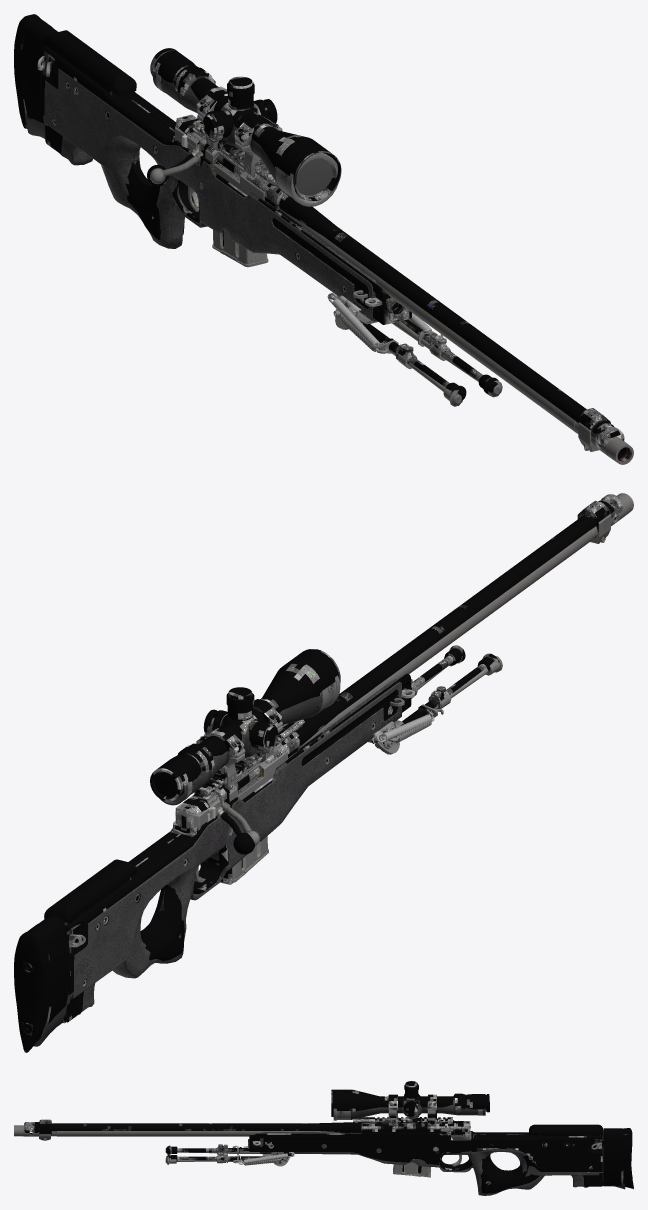
The picture shows the model from 3 angles, top to bottom: view 1: azimuth 30°, elevation 25°; view 2: azimuth 150°, elevation 25°; view 3: azimuth 270°, elevation 25°; orthographic projection. The views are drawn at different scales.
Parts seen in each view (by area): view 1: weapons\models\awp\weapon_snip_awp.vmdl_c.body_hd, weapons\models\awp\weapon_snip_awp.vmdl_c.body_legacy; view 2: weapons\models\awp\weapon_snip_awp.vmdl_c.body_hd, weapons\models\awp\weapon_snip_awp.vmdl_c.body_legacy; view 3: weapons\models\awp\weapon_snip_awp.vmdl_c.body_hd, weapons\models\awp\weapon_snip_awp.vmdl_c.body_legacy.
Part boxes in pixels (x1,y1,x2,y2): weapons\models\awp\weapon_snip_awp.vmdl_c.body_hd: (14,14,624,446); weapons\models\awp\weapon_snip_awp.vmdl_c.body_legacy: (24,51,633,464); weapons\models\awp\weapon_snip_awp.vmdl_c.body_hd: (14,494,623,1052); weapons\models\awp\weapon_snip_awp.vmdl_c.body_legacy: (34,493,633,1046); weapons\models\awp\weapon_snip_awp.vmdl_c.body_hd: (24,1081,633,1193); weapons\models\awp\weapon_snip_awp.vmdl_c.body_legacy: (14,1103,625,1195).
Size of the model in its own units: 0.1157 by 0.2743 by 1.39.
3 materials, 2 textured.
